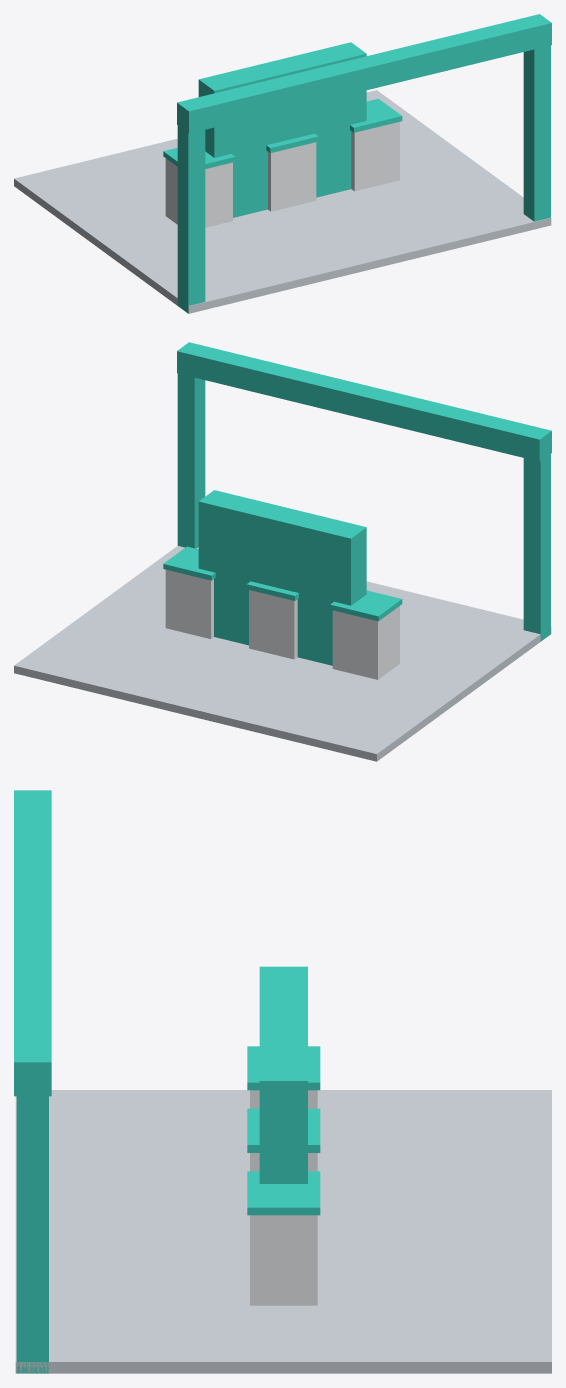
3 views of the same model, one above another, from view 1: azimuth 30°, elevation 25°; view 2: azimuth 150°, elevation 25°; view 3: azimuth 270°, elevation 25° (orthographic). The views are drawn at different scales.
Parts seen in each view (by area): view 1: Exhibition Booth Concept; view 2: Exhibition Booth Concept; view 3: Exhibition Booth Concept.
Boxes of the visible parts, <box> form: Exhibition Booth Concept: <box>14,14,551,313</box>; Exhibition Booth Concept: <box>14,342,551,761</box>; Exhibition Booth Concept: <box>14,790,551,1373</box>.
Size of the model in its own units: 6 by 3.2 by 5.02.
